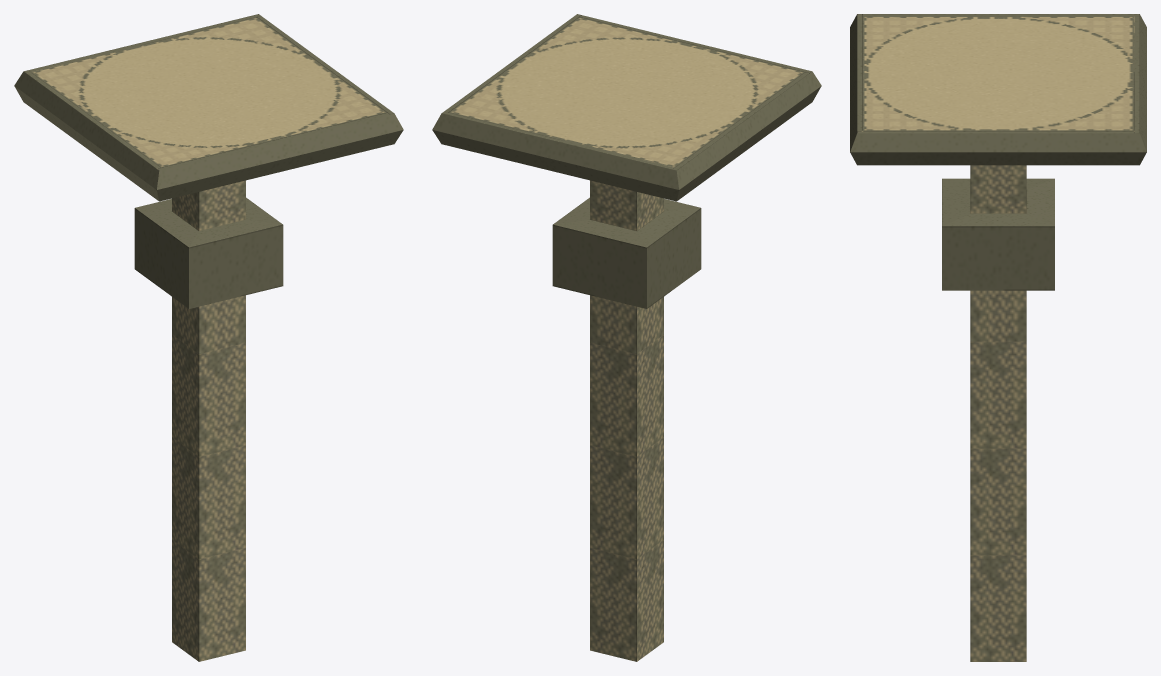
File: Platform_15.fbx
3 renders of one model, left to right at view 1: azimuth 30°, elevation 25°; view 2: azimuth 150°, elevation 25°; view 3: azimuth 270°, elevation 25°, orthographic. The views are drawn at different scales.
Visible parts, largest first — view 1: Platform_15; view 2: Platform_15; view 3: Platform_15.
Part boxes in pixels (x1,y1,x2,y2): Platform_15: (14, 14, 403, 661); Platform_15: (432, 14, 821, 661); Platform_15: (850, 14, 1146, 661).
Bounding box in the file's own units: 840 × 1800 × 840.
Materials: 1 (1 with a texture image).
